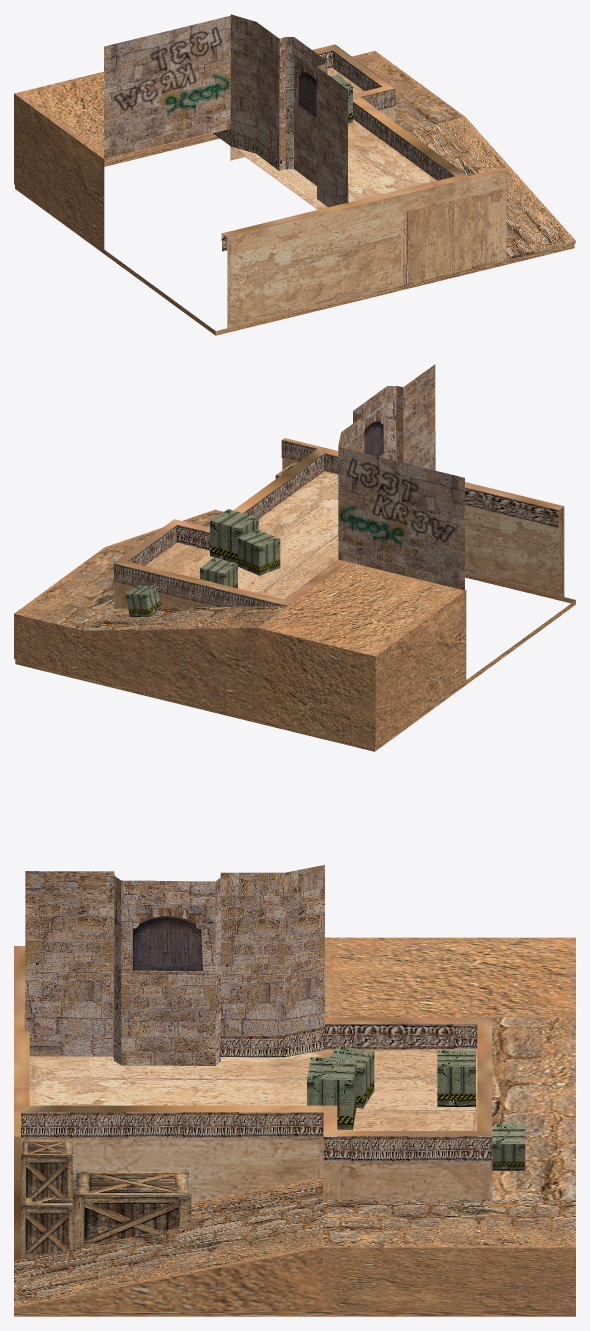
3 renders of one model, top to bottom at view 1: azimuth 30°, elevation 25°; view 2: azimuth 150°, elevation 25°; view 3: azimuth 270°, elevation 25°, orthographic. The views are drawn at different scales.
Parts seen in each view (by area): view 1: Teto_das_paredes, Object001, Box001, Object003, Object002, Paredes, Object004, Lateralizinha; view 2: Object001, Box001, Teto_das_paredes, Object002, Paredes, Object003, caixabomb001, caixabomb002, Object004, Box002, caixabomb; view 3: Object001, Object003, Teto_das_paredes, Object002, Paredes, Object004, caixabomb004, caixabomb005, caixabomb003, caixabomb001, Lateralizinha, caixabomb (+2 smaller).
Boxes of the visible parts, bbox=[...] form: Teto_das_paredes: bbox=[221, 44, 506, 327]; Object001: bbox=[14, 51, 575, 335]; Box001: bbox=[104, 15, 230, 158]; Object003: bbox=[230, 14, 348, 207]; Object002: bbox=[231, 68, 436, 209]; Paredes: bbox=[213, 44, 454, 251]; Object004: bbox=[294, 54, 316, 185]; Lateralizinha: bbox=[231, 131, 279, 170]; Object001: bbox=[14, 509, 575, 751]; Box001: bbox=[338, 447, 464, 590]; Teto_das_paredes: bbox=[114, 438, 564, 608]; Object002: bbox=[145, 471, 338, 599]; Paredes: bbox=[114, 440, 558, 606]; Object003: bbox=[338, 364, 435, 470]; caixabomb001: bbox=[210, 509, 258, 563]; caixabomb002: bbox=[238, 530, 280, 575]; Object004: bbox=[364, 403, 387, 458]; Box002: bbox=[125, 585, 161, 616]; caixabomb: bbox=[200, 558, 237, 588]; Object001: bbox=[14, 937, 575, 1316]; Object003: bbox=[24, 865, 324, 1065]; Teto_das_paredes: bbox=[14, 946, 492, 1260]; Object002: bbox=[29, 1049, 477, 1136]; Paredes: bbox=[21, 1024, 492, 1161]; Object004: bbox=[121, 903, 215, 1065]; caixabomb004: bbox=[72, 1171, 191, 1248]; caixabomb005: bbox=[21, 1140, 72, 1197]; caixabomb003: bbox=[21, 1197, 73, 1258]; caixabomb001: bbox=[307, 1057, 356, 1130]; Lateralizinha: bbox=[220, 1027, 324, 1057]; caixabomb: bbox=[437, 1050, 475, 1106].
Size of the model in its own units: 8.16 by 4.53 by 7.86.
10 materials, 10 textured.
